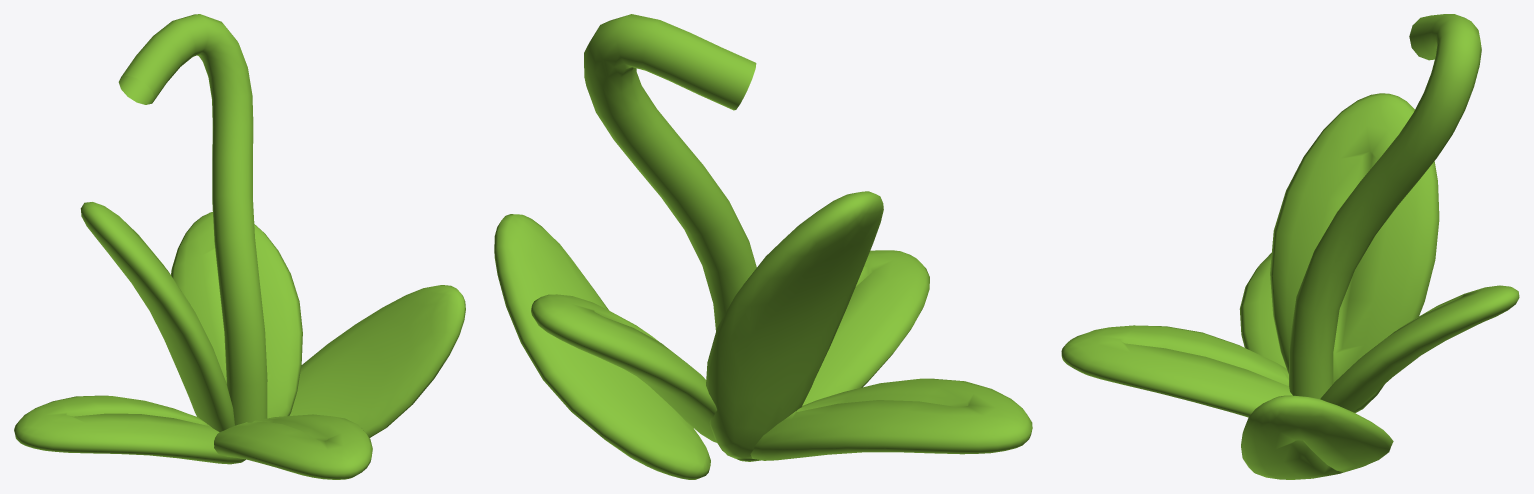
Rendered from Farmhouse_ROOM_floorplant_v03.glb.
3 renders of one model, left to right at view 1: azimuth 30°, elevation 25°; view 2: azimuth 150°, elevation 25°; view 3: azimuth 270°, elevation 25°, orthographic. The views are drawn at different scales.
Visible parts, largest first — view 1: Farmhouse_ROOM_floorplant_v03; view 2: Farmhouse_ROOM_floorplant_v03; view 3: Farmhouse_ROOM_floorplant_v03.
Boxes of the visible parts, x1,y1,x2,y2 form: Farmhouse_ROOM_floorplant_v03: (14,14,465,479); Farmhouse_ROOM_floorplant_v03: (494,14,1032,479); Farmhouse_ROOM_floorplant_v03: (1061,14,1519,479).
Bounding box in the file's own units: 0.2811 × 0.2538 × 0.2419.
